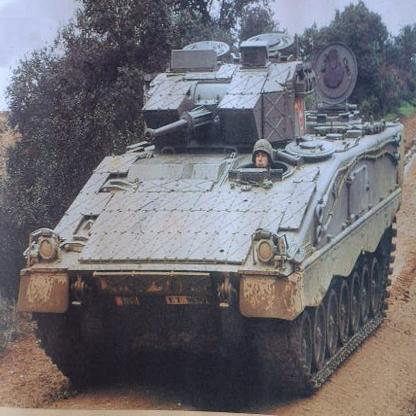Tank: (18, 36, 405, 394)
